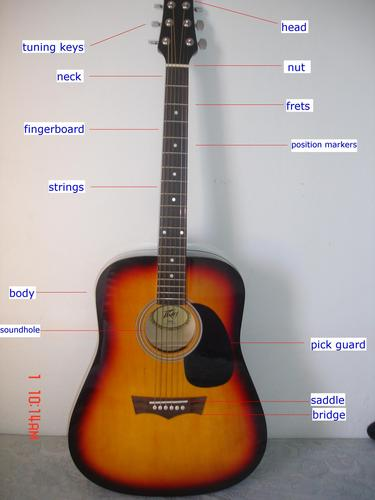guitar: (70, 1, 269, 497)
